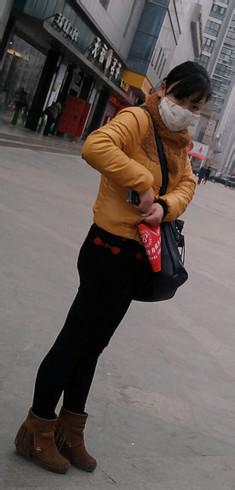OK: (160, 90, 203, 134)
